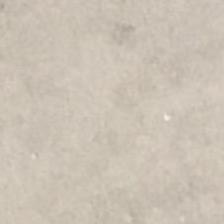Non_Crack: (28, 41, 194, 194)
